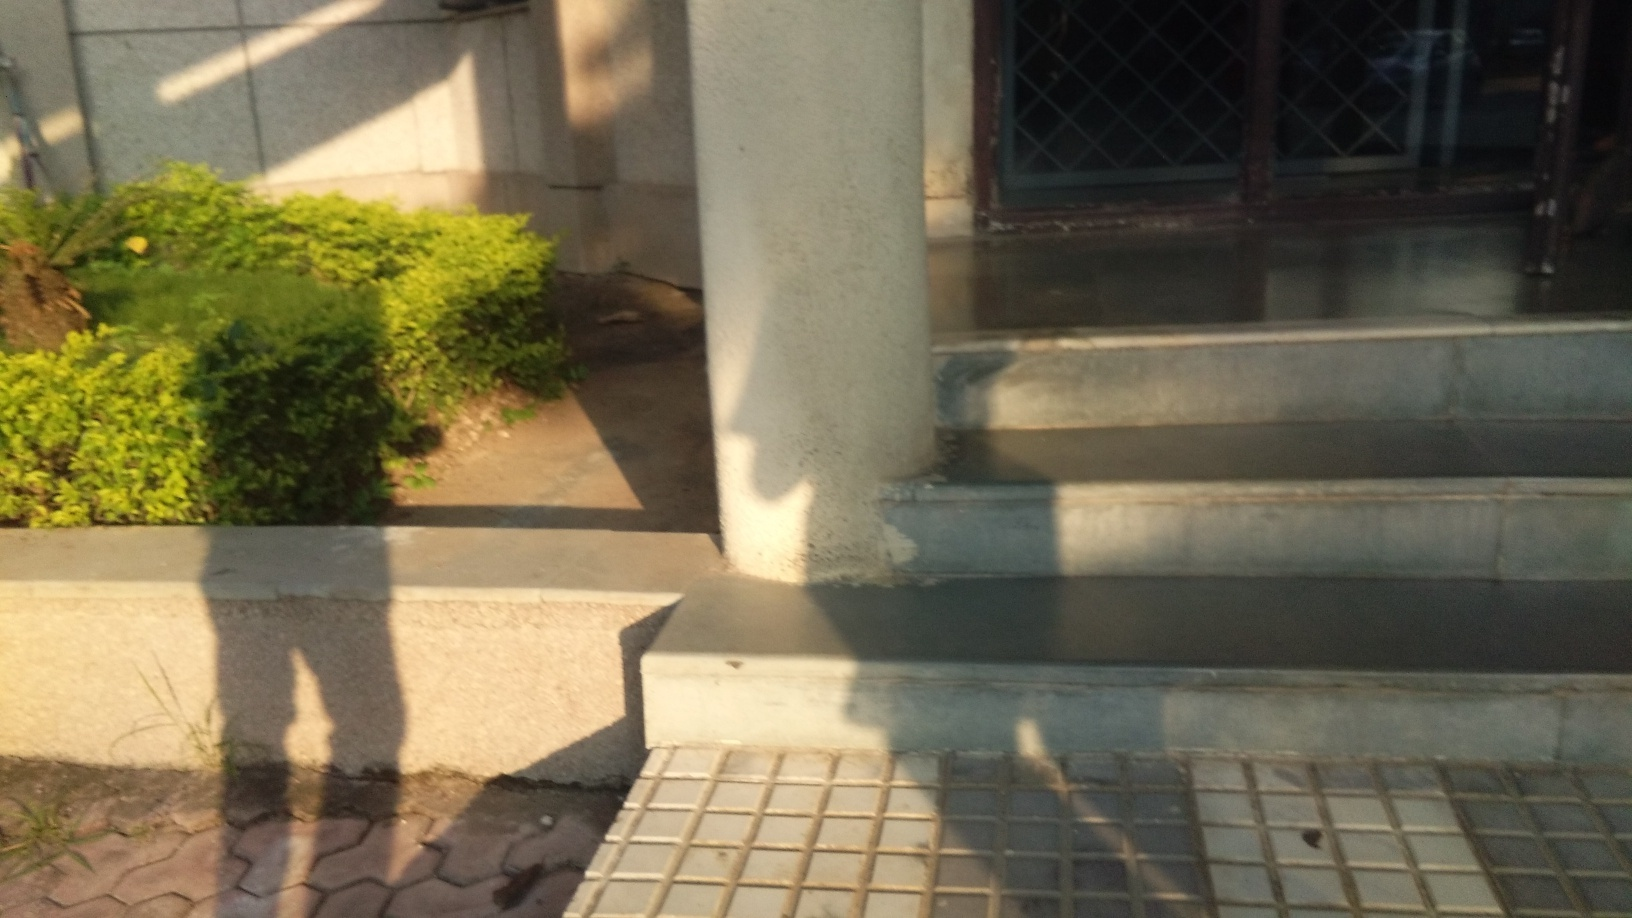stairs_up: (718, 315, 1632, 789)
